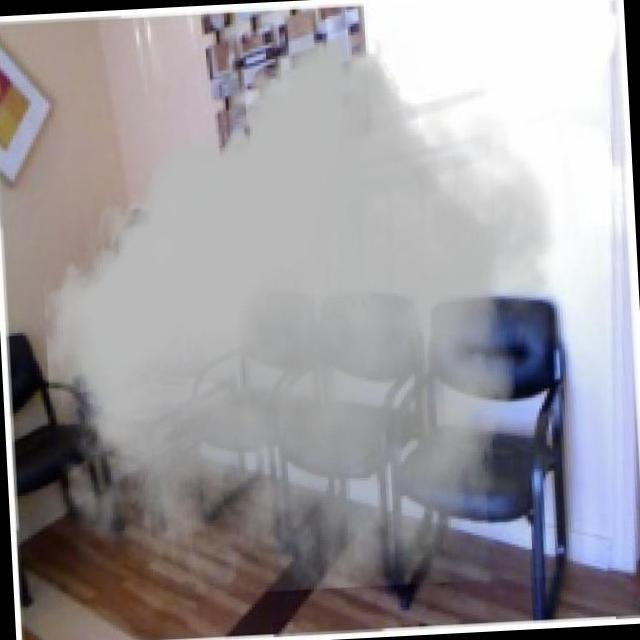Smoke: (22, 21, 586, 603)
